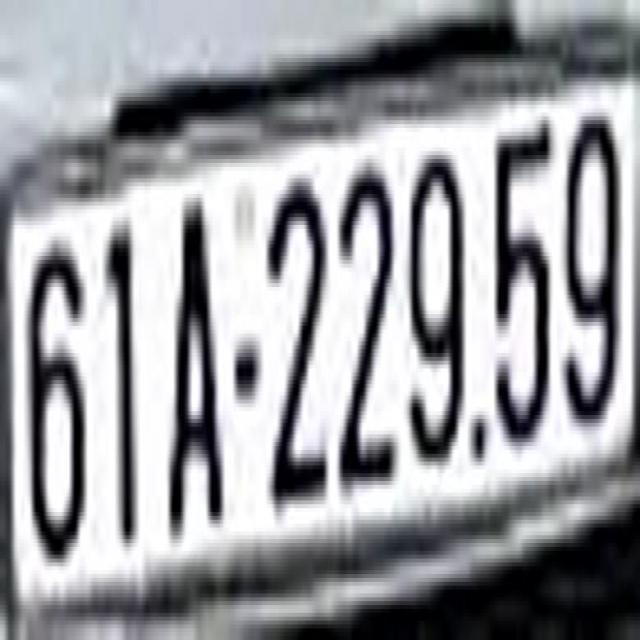1: (105, 229, 142, 562)
2: (267, 174, 330, 500), (337, 155, 397, 493)
5: (492, 116, 552, 458)
6: (32, 217, 85, 559)
9: (406, 147, 467, 477), (561, 97, 620, 438)
A: (167, 186, 224, 539)
